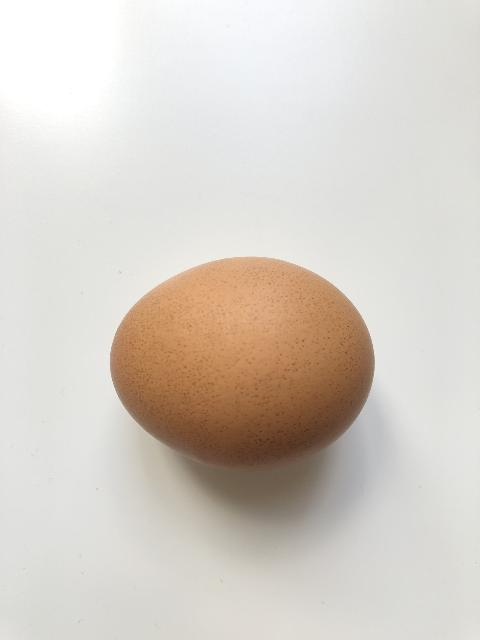Sano: (109, 255, 377, 469)
